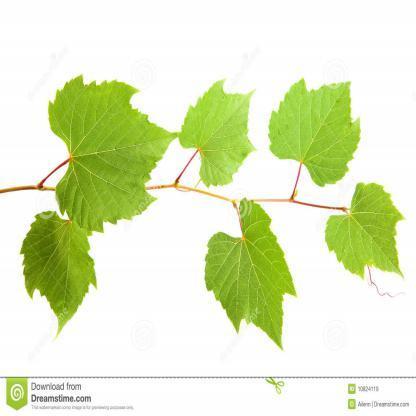grape leaf black rot: (47, 72, 180, 228), (198, 198, 298, 354), (260, 71, 362, 187), (10, 222, 99, 341), (176, 79, 260, 190), (322, 180, 406, 284)
